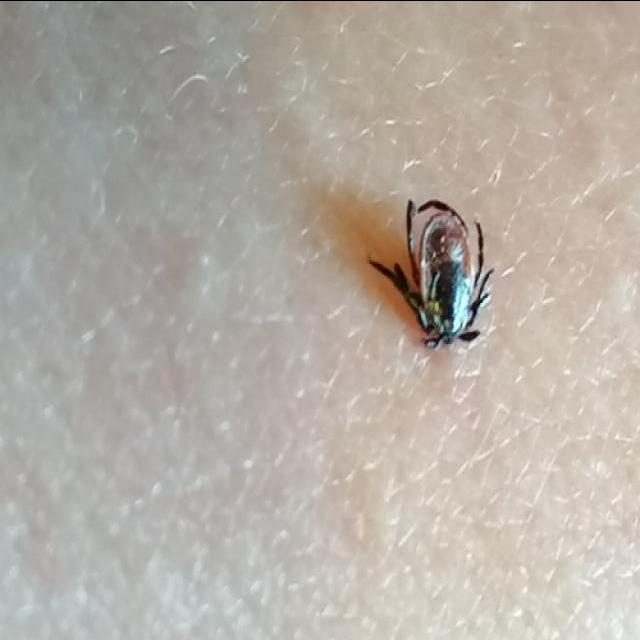Ixodes Ricinus-F: (366, 198, 494, 352)
